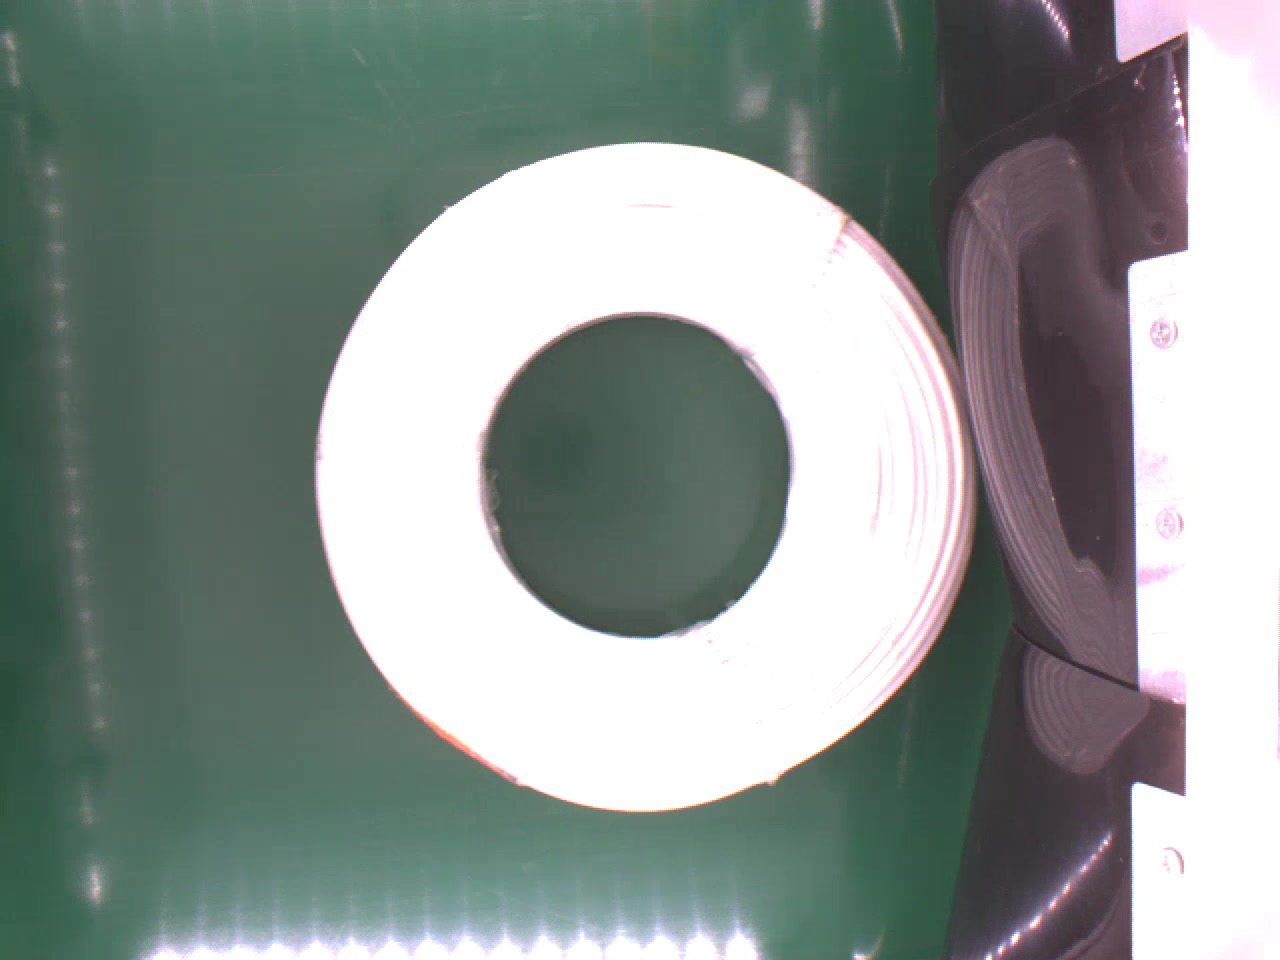white: (304, 132, 984, 821)
